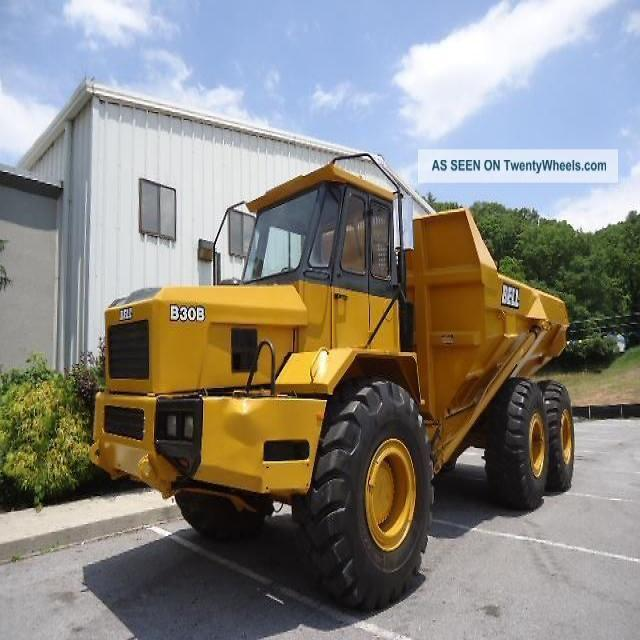dump_truck: (107, 143, 583, 597)
